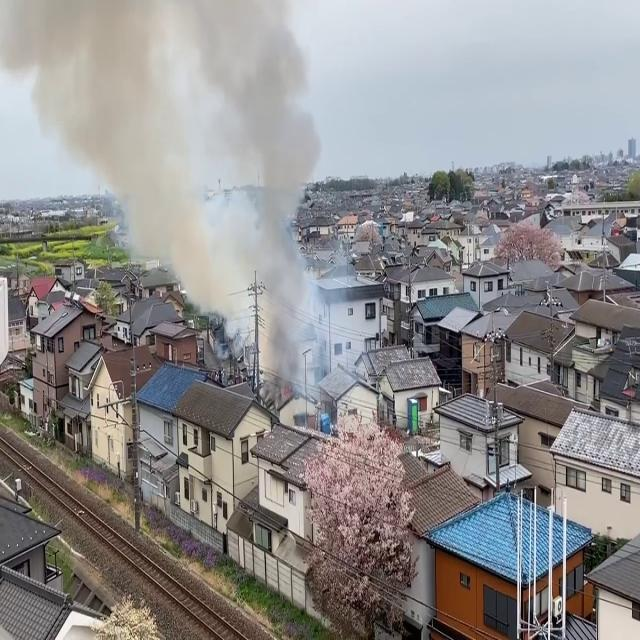Smoke: (8, 1, 339, 386)
